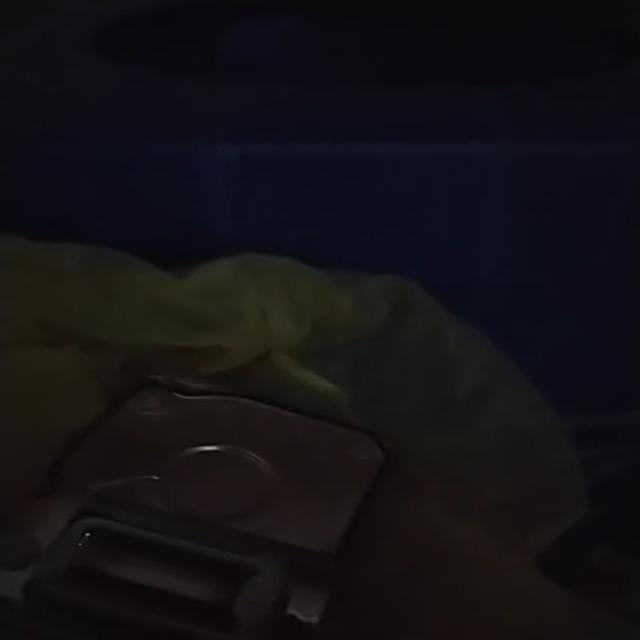bin: (2, 0, 640, 621)
metal: (28, 386, 384, 640)
